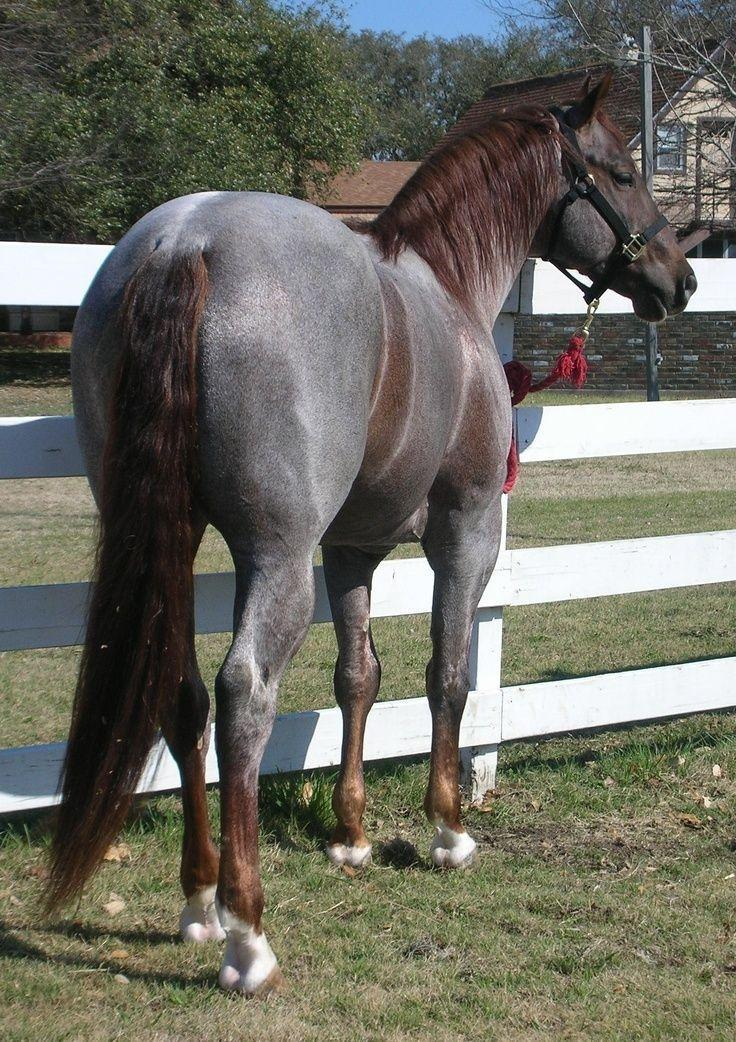horse: (33, 67, 701, 998)
